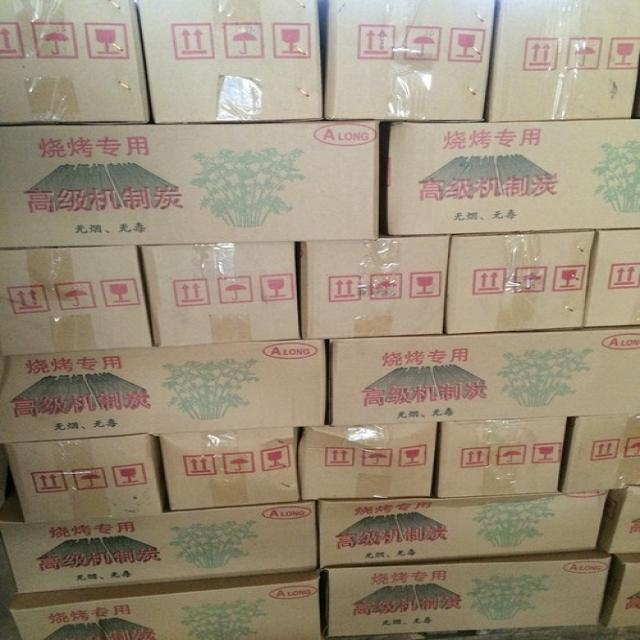box: (0, 121, 379, 249), (3, 466, 316, 592), (329, 326, 639, 427), (385, 119, 640, 234), (321, 550, 611, 637), (137, 0, 324, 123), (317, 491, 608, 569), (10, 569, 321, 640), (317, 0, 495, 122), (484, 0, 640, 122), (0, 1, 150, 126), (137, 242, 302, 346), (0, 246, 151, 357), (296, 234, 452, 338), (443, 230, 595, 335), (1, 434, 170, 523), (161, 427, 302, 510), (434, 416, 567, 498), (300, 423, 438, 501), (557, 414, 640, 491), (584, 230, 640, 329), (599, 552, 640, 628), (598, 486, 639, 554)
